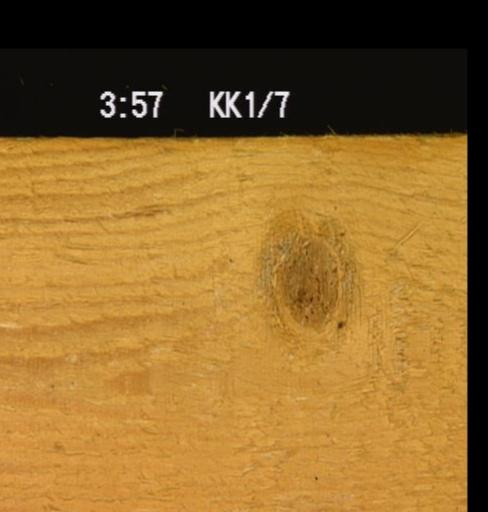sound_knot: (259, 215, 357, 343)
